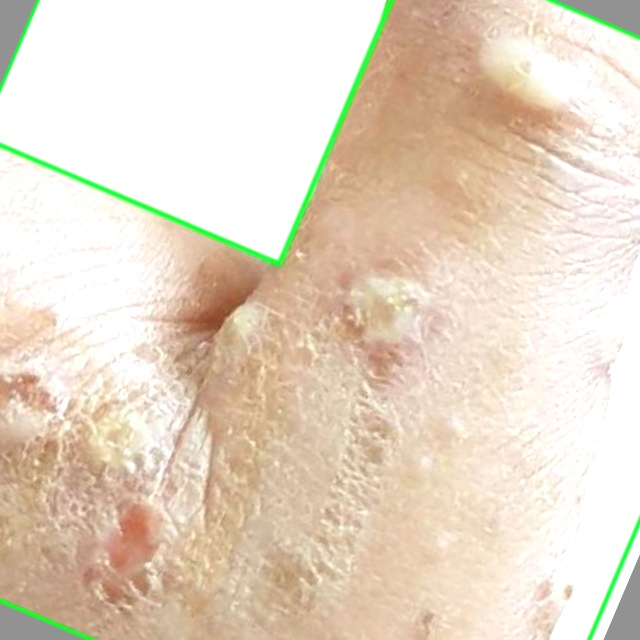Scabies: (0, 0, 639, 639), (0, 0, 391, 263)
